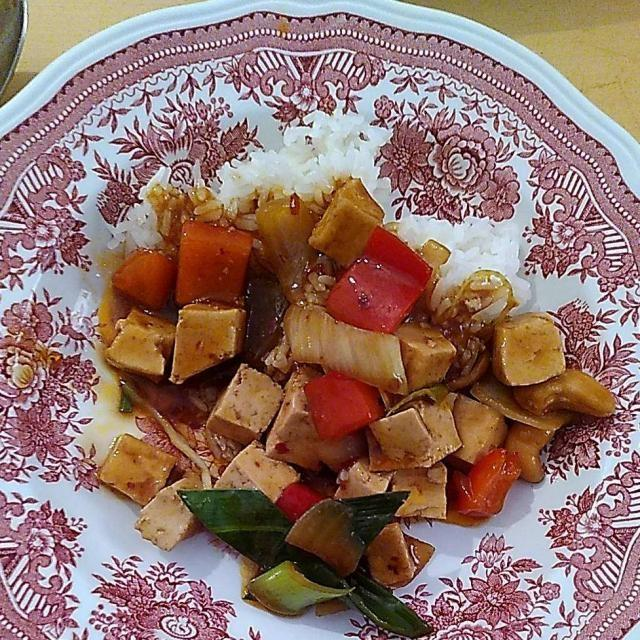cashew-nut: (496, 363, 614, 475)
mixed-vegetables: (115, 214, 518, 602)
rice: (124, 123, 536, 320)
tofu: (107, 186, 560, 565)
